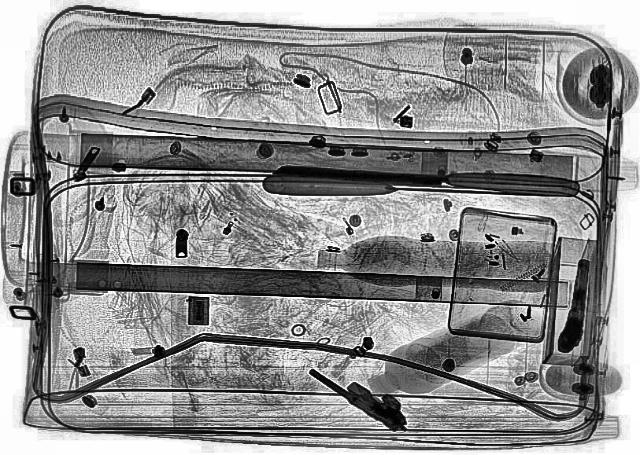Gun: (296, 358, 428, 436), (556, 260, 594, 352)
Knife: (260, 168, 576, 210), (270, 161, 578, 196)
